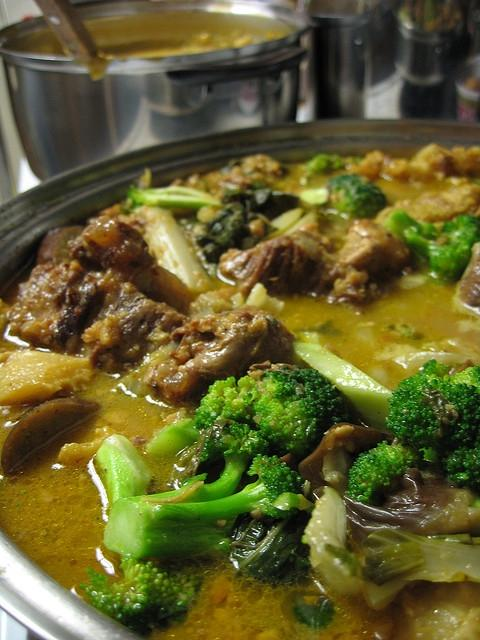broccoli: (104, 366, 354, 560), (385, 366, 480, 450), (79, 558, 202, 620), (385, 210, 479, 280), (346, 440, 425, 504), (297, 173, 387, 220), (120, 185, 223, 211), (300, 154, 346, 186)
